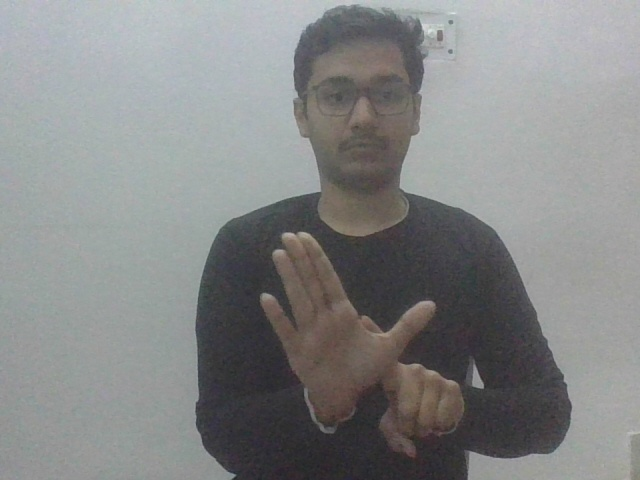Y: (260, 231, 467, 457)
